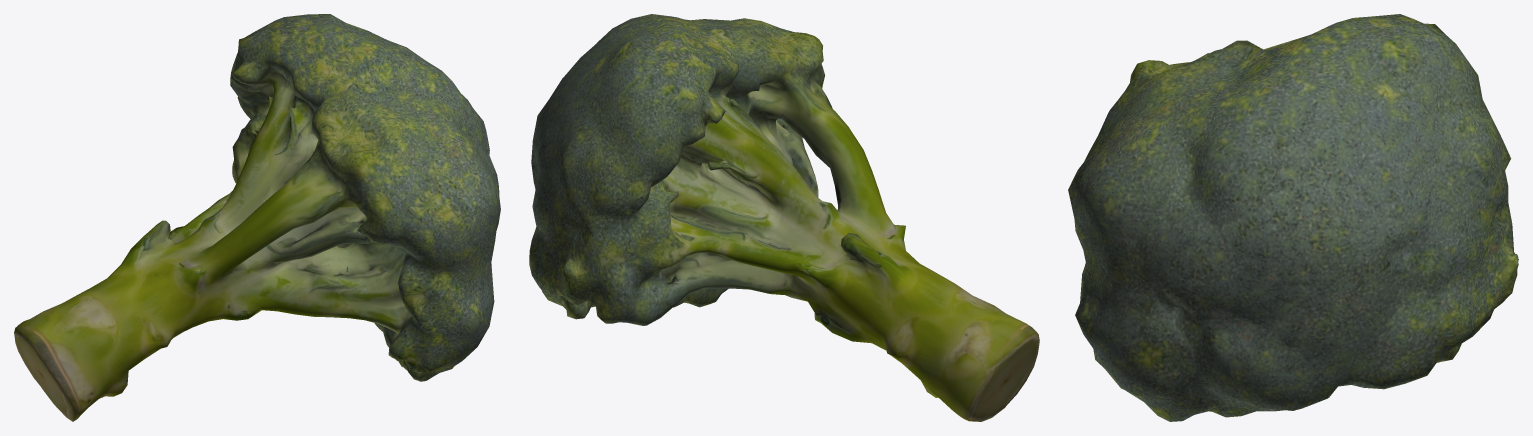
Rendered from kiri_brocoli.gltf.
The picture shows the model from 3 angles, left to right: view 1: azimuth 30°, elevation 25°; view 2: azimuth 150°, elevation 25°; view 3: azimuth 270°, elevation 25°; orthographic projection. The views are drawn at different scales.
Visible parts, largest first — view 1: A87_Broccoli; view 2: A87_Broccoli; view 3: A87_Broccoli.
Part boxes in pixels (box(x1,y1,x2,y2)): A87_Broccoli: box(14, 14, 500, 421); A87_Broccoli: box(529, 14, 1039, 421); A87_Broccoli: box(1068, 14, 1518, 421).
Size of the model in its own units: 0.2026 by 0.1327 by 0.1435.
Materials: 1 (1 with a texture image).
